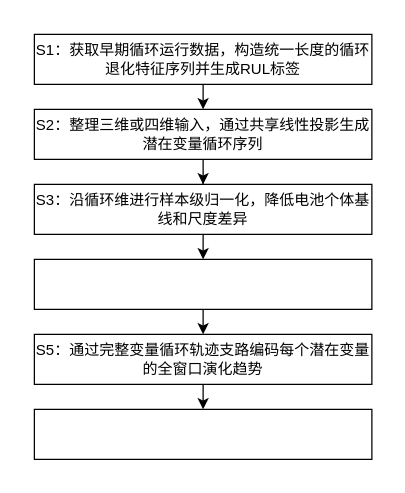
The diagram is 405 pixels wide and 493 high, and some of its shapes have lost their labels. The centre of each missing label's shape, as x and y in pixels:
"S4：通过局部循环片段支路编码局部退化模式，并进行片段级自适应加权" goes at [202,283].
"S6：融合两支路表示，进行变量关系编码、变量级自适应加权和RUL回归，训练或推理输出预测值" goes at [202,433].
